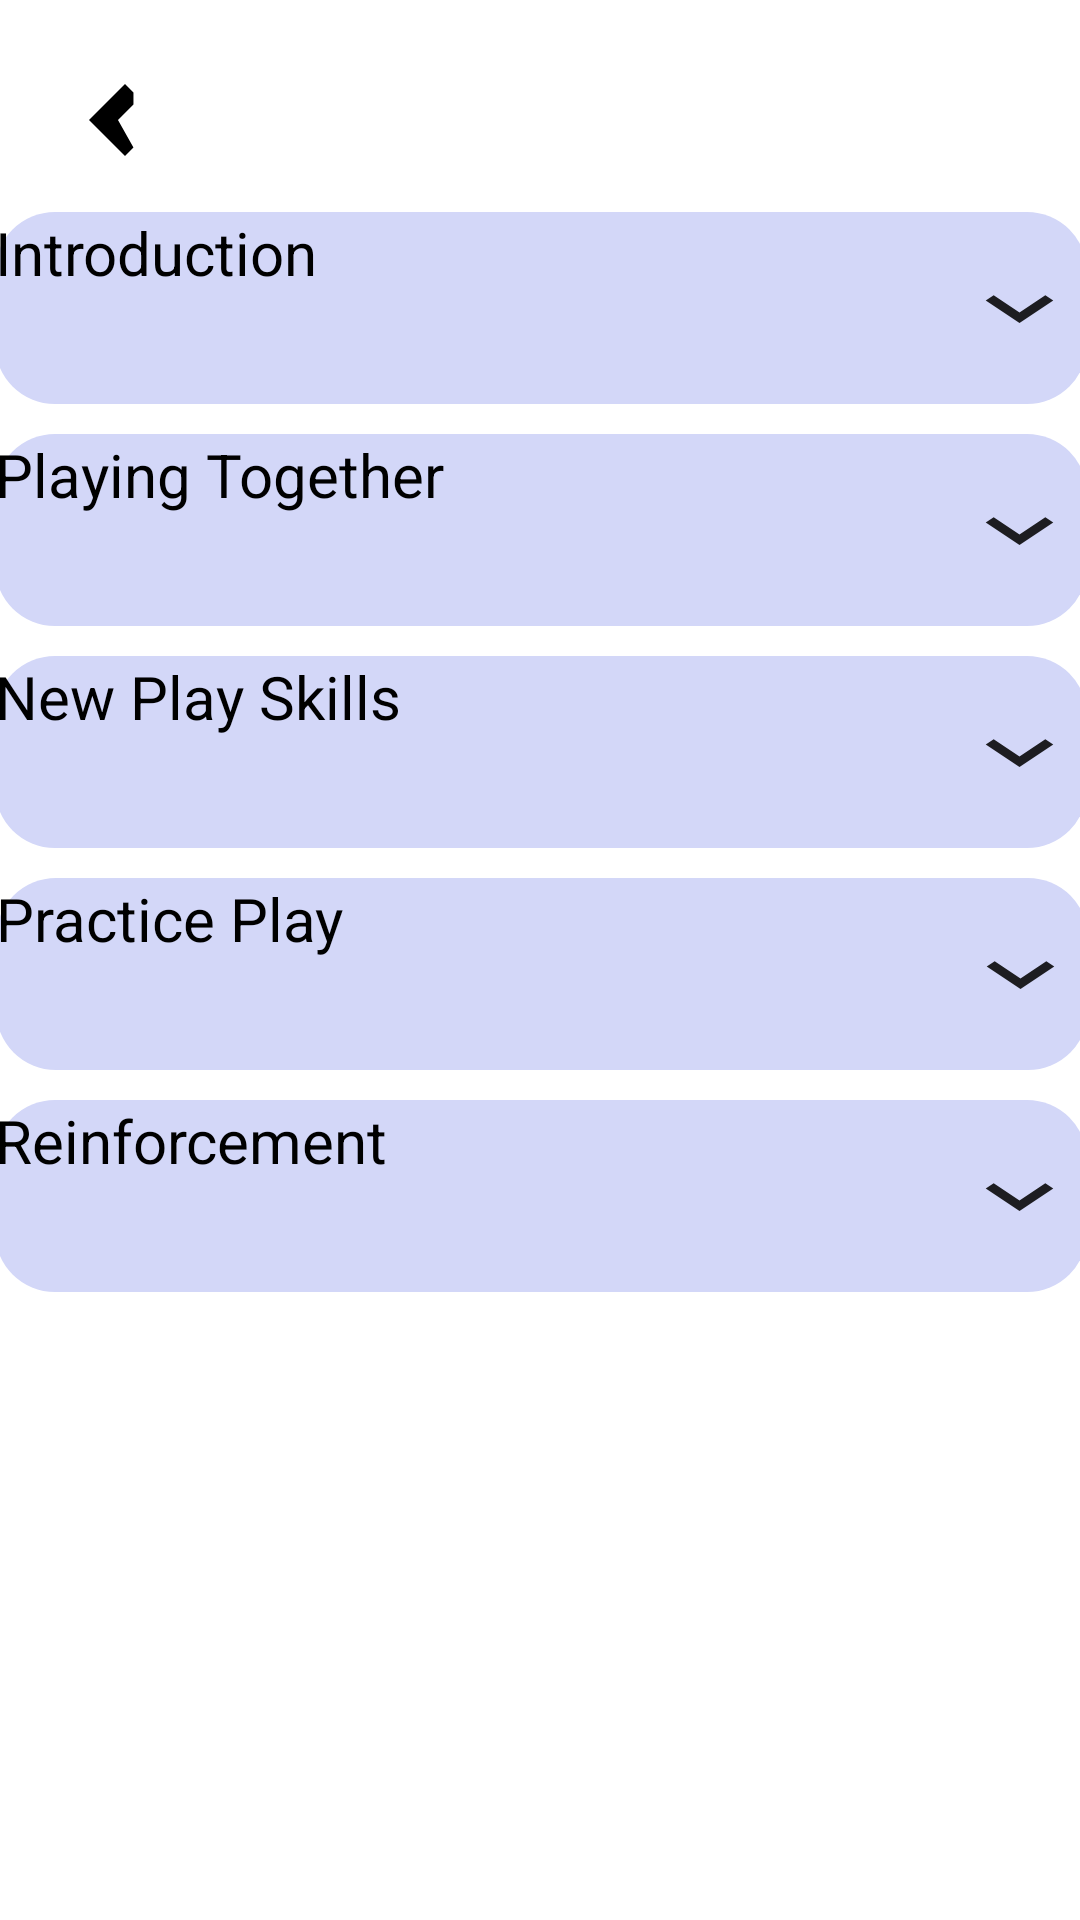

Locate icon controls on the screen. Image size 1080 × 1920, boxes as (x1, y1, x2, y2).
back: (89, 84, 134, 156)
